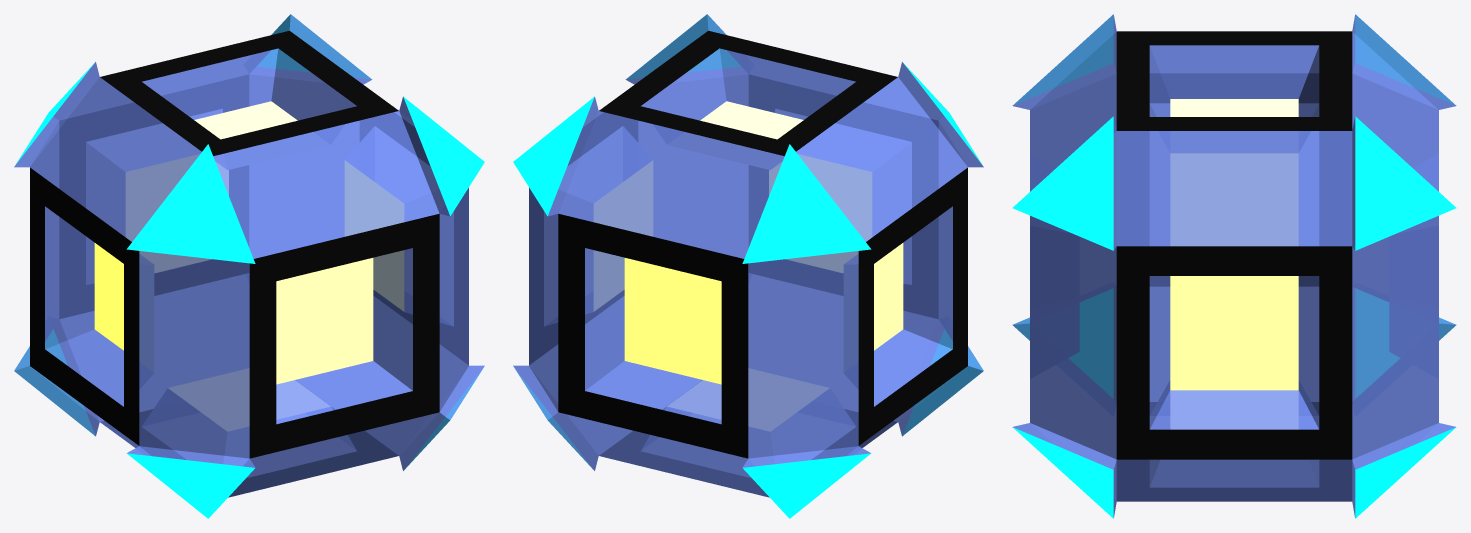
File: shard.fbx
3 renders of one model, left to right at view 1: azimuth 30°, elevation 25°; view 2: azimuth 150°, elevation 25°; view 3: azimuth 270°, elevation 25°, orthographic. The views are drawn at different scales.
Parts seen in each view (by area): view 1: shard; view 2: shard; view 3: shard.
Boxes of the visible parts, x1,y1,x2,y2 form: shard: [14, 14, 484, 518]; shard: [513, 14, 983, 518]; shard: [1012, 14, 1456, 518].
Size of the model in its own units: 123 by 123 by 123.
